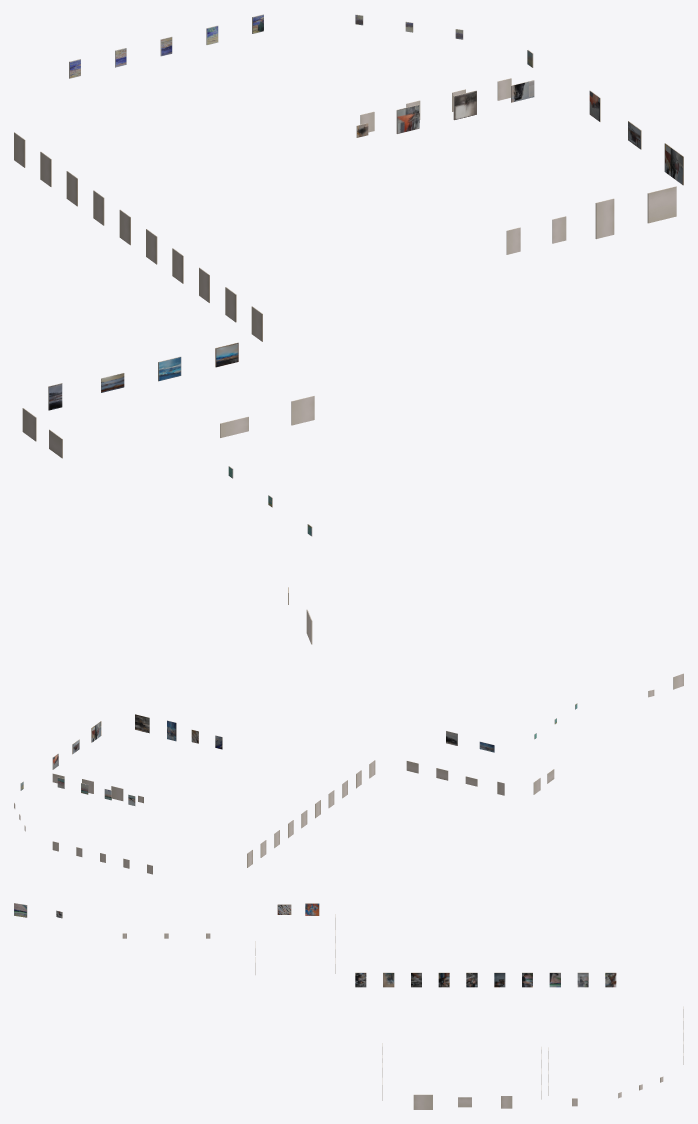
Rendered from artPaintings.glb.
3 views of the same model, one above another, from view 1: azimuth 30°, elevation 25°; view 2: azimuth 150°, elevation 25°; view 3: azimuth 270°, elevation 25° (orthographic). The views are drawn at different scales.
Visible parts, largest first — view 1: baur; view 2: no part large enough to name; view 3: no part large enough to name.
Part boxes in pixels (x1,y1,x2,y2): baur: [647, 186, 676, 223].
Bounding box in the file's own units: 32.9 × 1.5 × 48.25.
48 materials, 48 textured.
